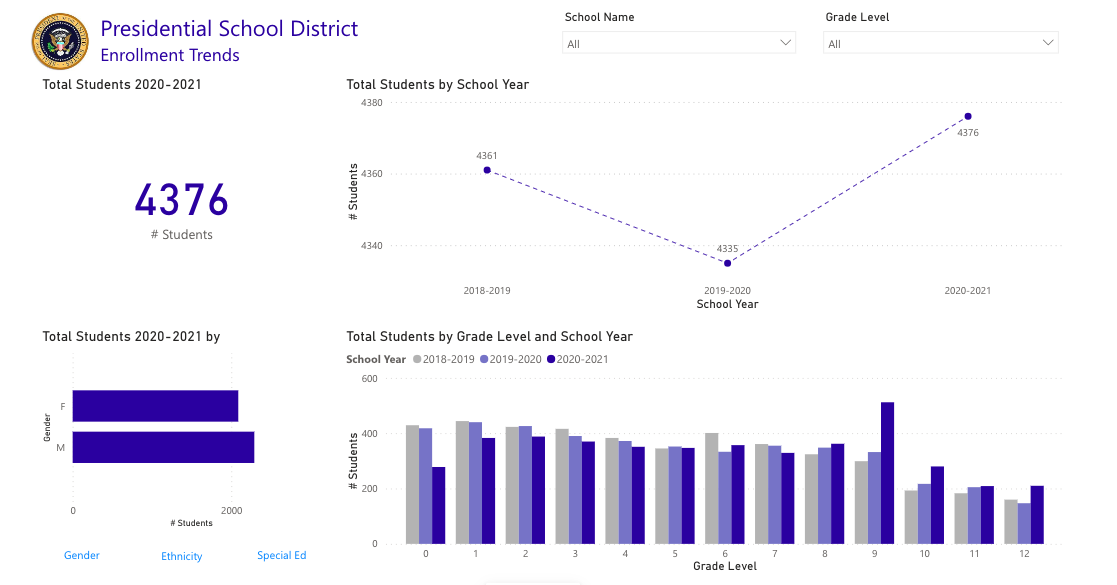

Layout of this report page (visuals, bound fields, positions):
{"tool":"powerbi","page":{"name":"Enrollment Summary","canvas":[1280,720],"ordinal":0},"visuals":[{"type":"card","title":"Total Students 2020-2021","fields":{"Values":["Enrollment_List.# Students"]},"box":[17,100.4,348.4,285.9],"z":0},{"type":"lineChart","title":"Total Students by School Year","fields":{"Category":["Enrollment_List.year"],"Y":["Enrollment_List.# Students"]},"box":[384.4,100.4,878.6,285.9],"z":1000},{"type":"clusteredBarChart","title":"Total Students 2020-2021 by","fields":{"Y":["Enrollment_List.# Students"],"Category":["Demographics_List.special_ed","Demographics_List.ethnicity","Demographics_List.gender"]},"box":[17,405.2,348.4,244.3],"z":2000},{"type":"clusteredColumnChart","title":"Total Students by Grade Level and School Year","fields":{"Y":["Enrollment_List.# Students"],"Category":["Enrollment_List.grade_level"],"Series":["Enrollment_List.year"]},"box":[384.4,405.2,878.6,299.2],"z":3000},{"type":"slicer","fields":{"Values":["Enrollment_List.school_name"]},"box":[641,15.4,303.1,65.6],"z":4000},{"type":"slicer","fields":{"Values":["Enrollment_List.grade_level"]},"box":[957.6,15.4,305,65.6],"z":5000},{"type":"textbox","box":[17,649.5,83.3,47.3],"z":6000},{"type":"shape","box":[17,649.5,106,54.9],"z":7000},{"type":"shape","box":[138.2,651.4,106,54.9],"z":8000},{"type":"shape","box":[259.4,649.5,106,54.9],"z":9000},{"type":"image","box":[0,15.4,86.9,81.1],"z":10000},{"type":"textbox","box":[86.9,15.4,357.2,84.9],"z":11000}]}

Visuals, with their boxes on the page's 1280x720 design canvas (x1, y1, x2, y2). These are canvas units, not pixel positions in the 1117x585 screenshot, which may show the page scaled, cropped or inside an application window:
"Total Students 2020-2021" card: {"left": 17, "top": 100, "right": 365, "bottom": 386}
"Total Students by School Year" lineChart: {"left": 384, "top": 100, "right": 1263, "bottom": 386}
"Total Students 2020-2021 by" clusteredBarChart: {"left": 17, "top": 405, "right": 365, "bottom": 650}
"Total Students by Grade Level and School Year" clusteredColumnChart: {"left": 384, "top": 405, "right": 1263, "bottom": 704}
slicer - Enrollment_List.school_name: {"left": 641, "top": 15, "right": 944, "bottom": 81}
slicer - Enrollment_List.grade_level: {"left": 958, "top": 15, "right": 1263, "bottom": 81}
textbox: {"left": 17, "top": 650, "right": 100, "bottom": 697}
shape: {"left": 17, "top": 650, "right": 123, "bottom": 704}
shape: {"left": 138, "top": 651, "right": 244, "bottom": 706}
shape: {"left": 259, "top": 650, "right": 365, "bottom": 704}
image: {"left": 0, "top": 15, "right": 87, "bottom": 96}
textbox: {"left": 87, "top": 15, "right": 444, "bottom": 100}
